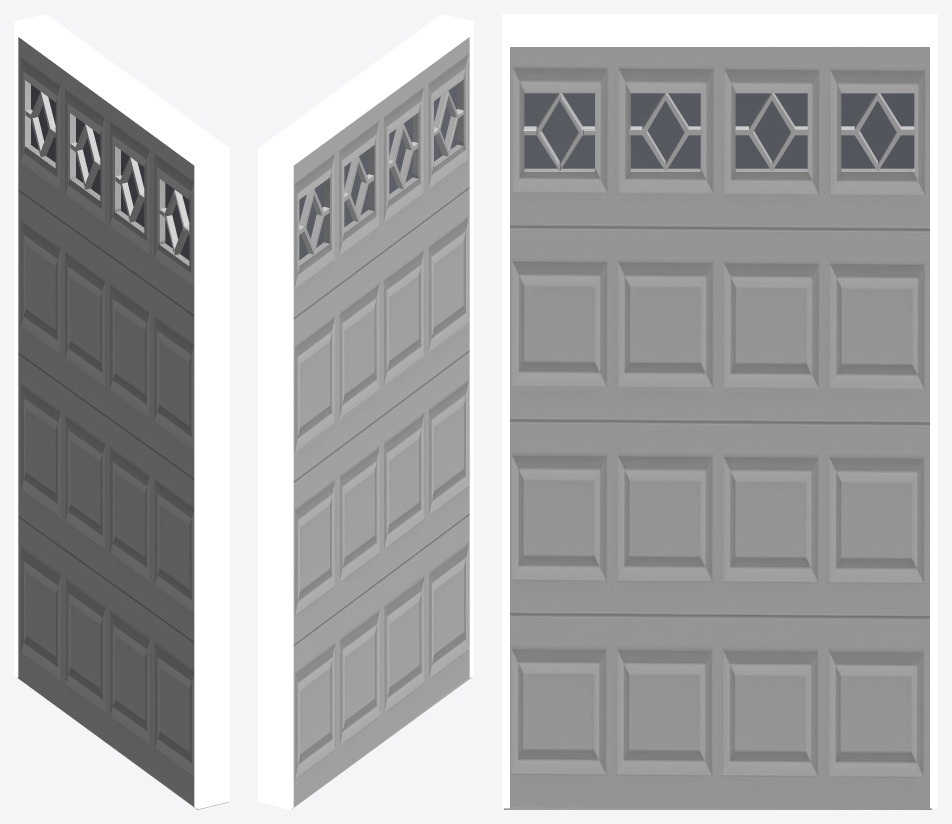
The model's file is overhead_door_door_waterton.bc18e9da.gltf.
The picture shows the model from 3 angles, left to right: view 1: azimuth 30°, elevation 25°; view 2: azimuth 150°, elevation 25°; view 3: azimuth 270°, elevation 25°; orthographic projection. The views are drawn at different scales.
Visible parts, largest first — view 1: door, trim, dymond_window, Glass; view 2: door, trim, dymond_window, Glass; view 3: door, trim, Glass, dymond_window.
Part boxes in pixels (box(x1,y1,x2,y2)): door: box(17, 37, 228, 809); trim: box(14, 14, 229, 809); dymond_window: box(25, 91, 189, 254); Glass: box(31, 84, 189, 260); door: box(291, 37, 471, 809); trim: box(258, 14, 473, 809); dymond_window: box(299, 91, 463, 254); Glass: box(299, 84, 457, 259); door: box(504, 47, 931, 809); trim: box(502, 14, 937, 808); Glass: box(524, 93, 914, 168); dymond_window: box(523, 93, 914, 171).
Bounding box in the file's own units: 0.3133 × 6.01 × 3.05.
4 materials, 3 textured.
